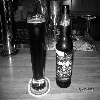beer: (24, 13, 52, 97)
